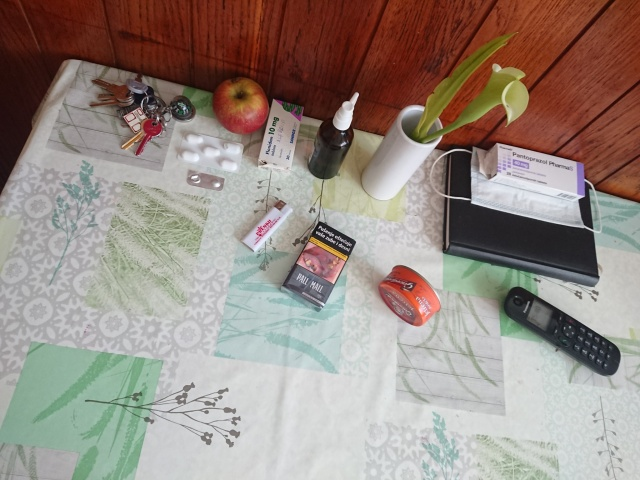Gavrilovic Pork Liver Pate 100g: (377, 262, 444, 328)
